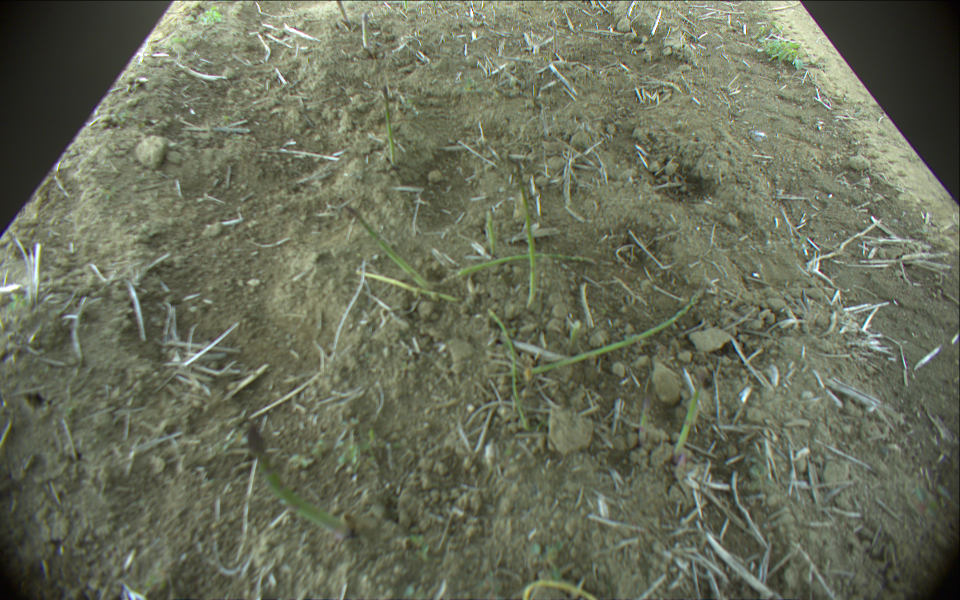aspa: (529, 291, 707, 379), (245, 421, 352, 540), (344, 201, 432, 290), (444, 253, 618, 283), (352, 268, 462, 307), (513, 162, 542, 292), (670, 377, 704, 453), (376, 82, 400, 161), (486, 211, 499, 256), (359, 15, 373, 52), (336, 1, 349, 24)
